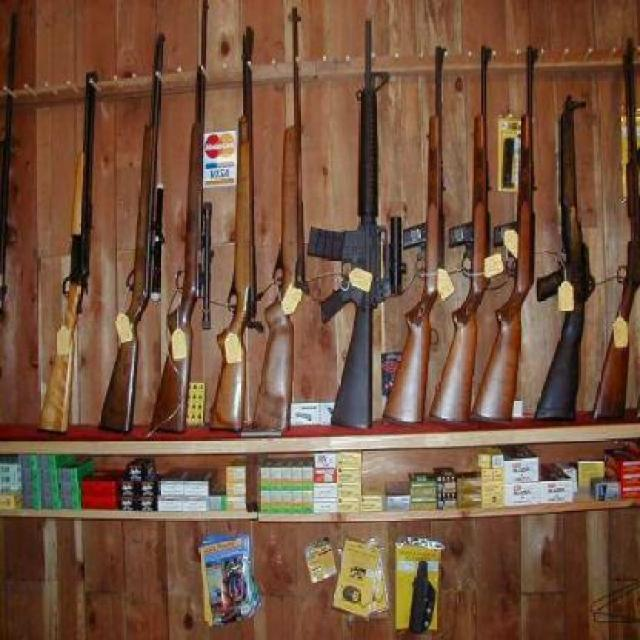weapon: (308, 21, 401, 426), (471, 46, 544, 422), (153, 4, 211, 433), (427, 48, 493, 424), (386, 46, 448, 420), (250, 14, 304, 427), (102, 55, 158, 431), (40, 70, 97, 432), (208, 27, 259, 428), (538, 96, 596, 413)
